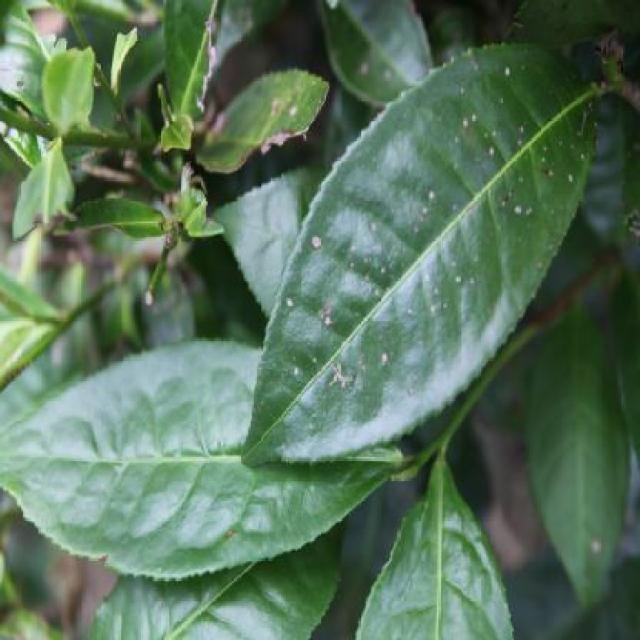Leaf rust of tea: (260, 39, 606, 472)
